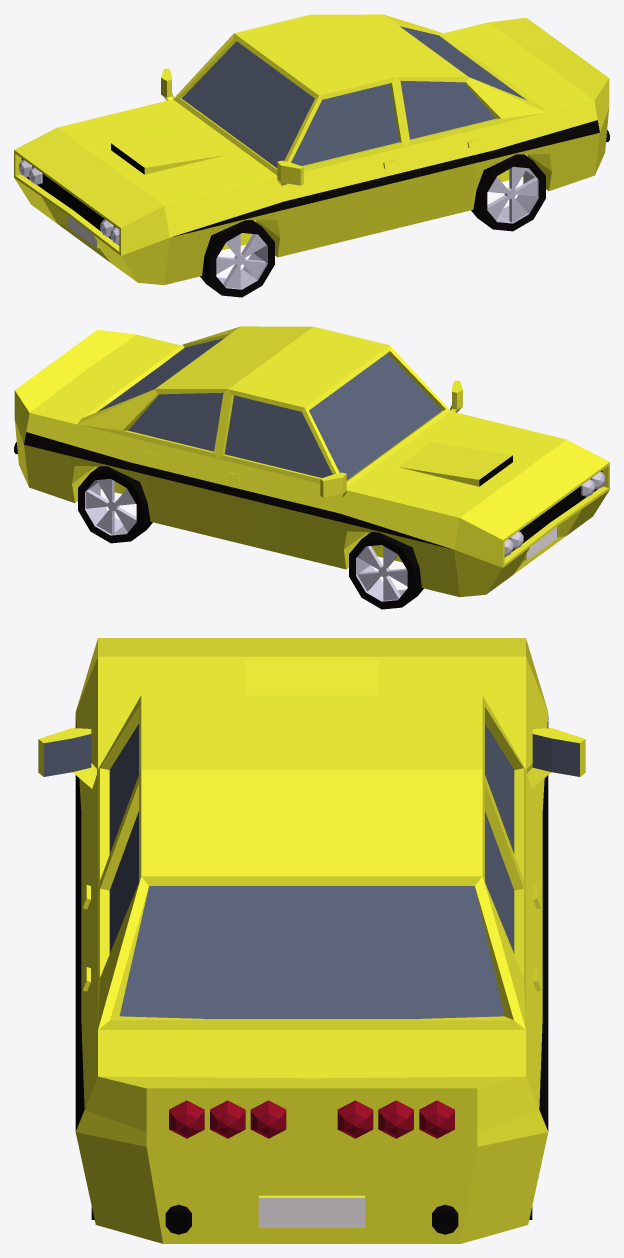
The model's file is muscle.glb.
3 views of the same model, one above another, from view 1: azimuth 30°, elevation 25°; view 2: azimuth 150°, elevation 25°; view 3: azimuth 270°, elevation 25° (orthographic). The views are drawn at different scales.
Visible parts, largest first — view 1: chassis, flwheel, blwheel; view 2: chassis, frwheel, brwheel; view 3: chassis.
Boxes of the visible parts, box(x1,y1,x2,y2) form: chassis: box(14, 14, 609, 284); flwheel: box(200, 220, 274, 297); blwheel: box(471, 154, 545, 231); chassis: box(14, 326, 609, 596); frwheel: box(349, 532, 423, 609); brwheel: box(78, 466, 152, 543); chassis: box(38, 638, 585, 1243).
Size of the model in its own units: 6.06 by 1.94 by 2.81.
